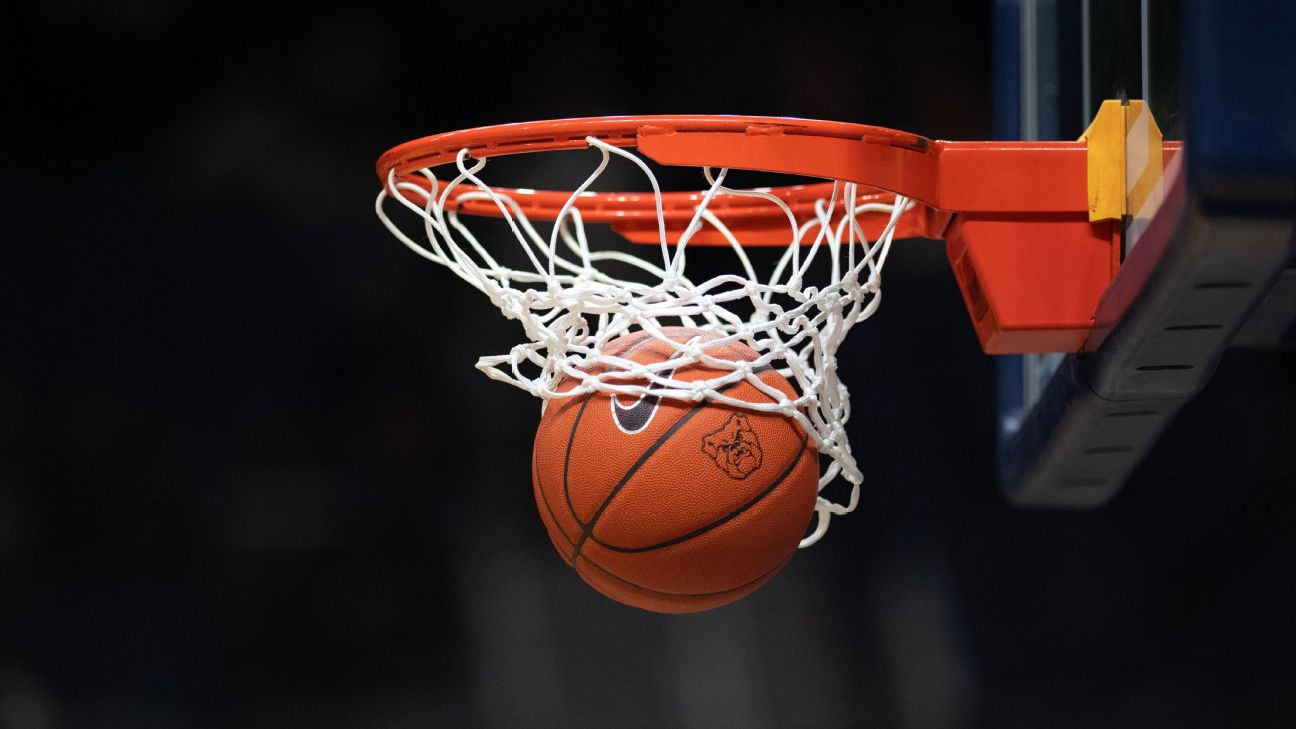MadeBasket: (372, 113, 929, 613)
